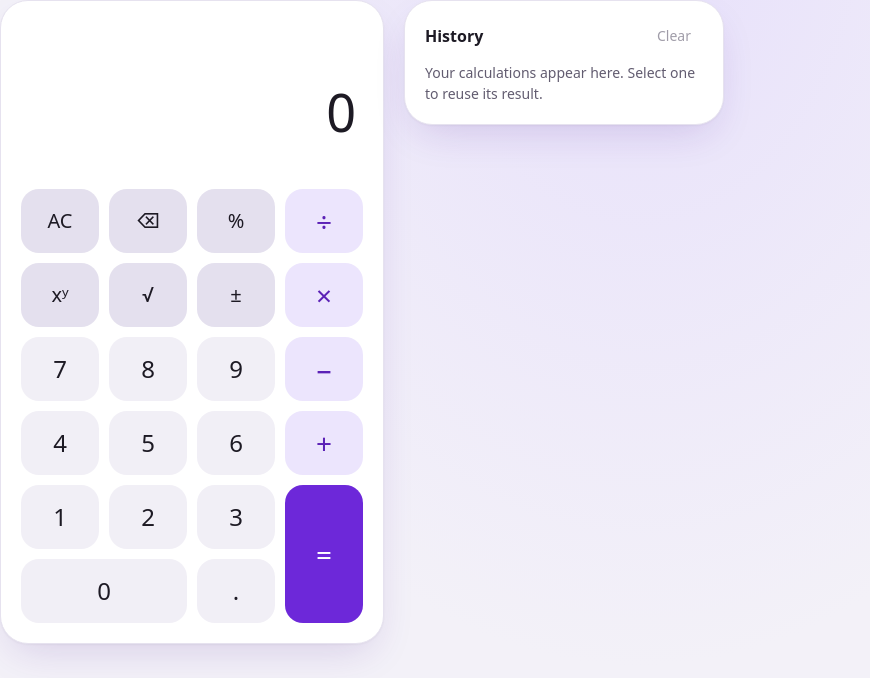
Calculator › treats Enter as = after clicking keys, without repeating the last one
The image size is (870, 678).
Click the button "2" at (148, 517), box [109,485,187,549]
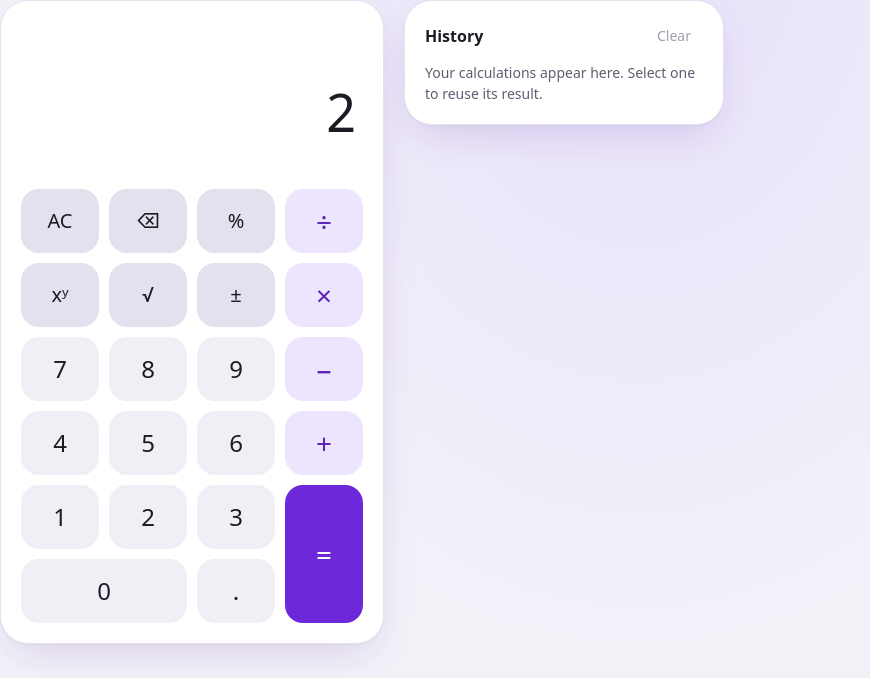
Click the button named "Add" at (324, 443), box [285,411,363,475]
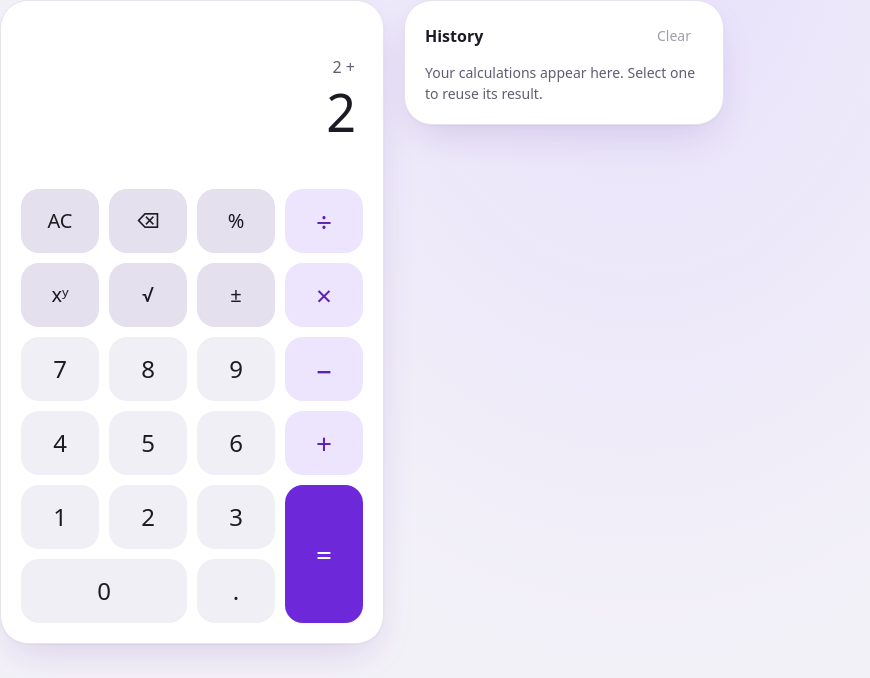
Click the button "3" at (236, 517), box [197,485,275,549]
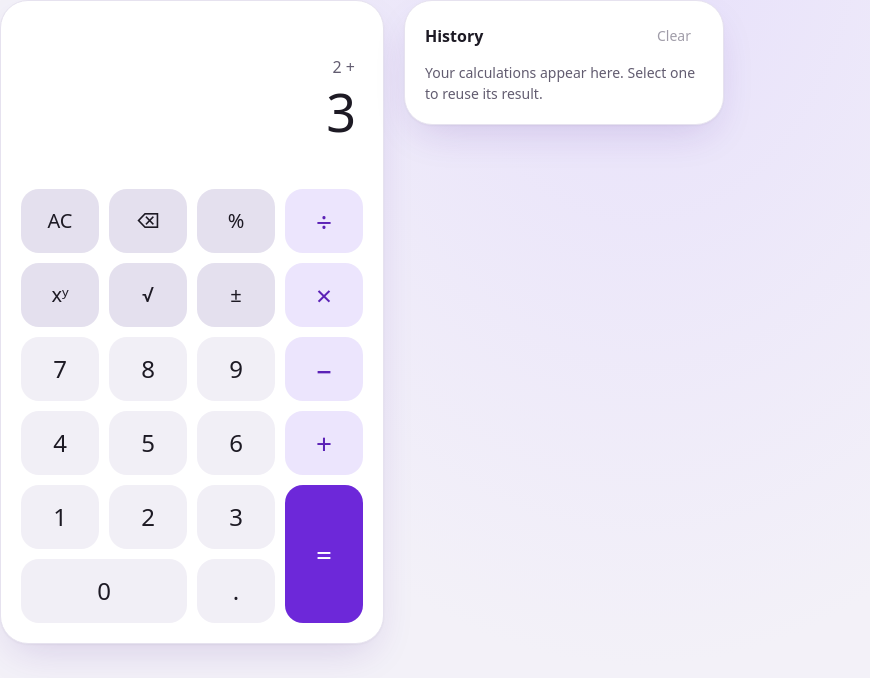
Press Enter
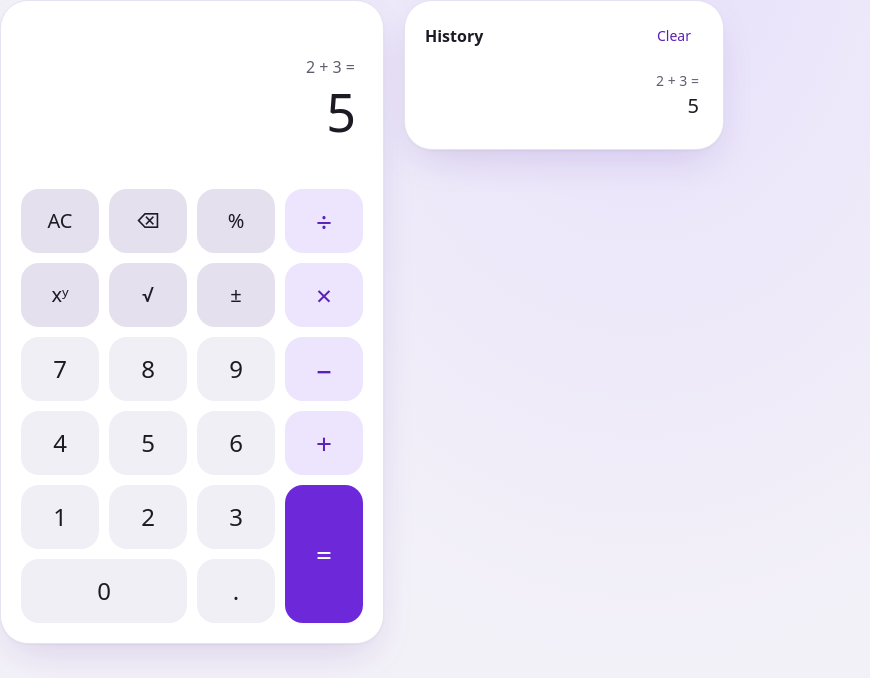
expect the 1st text "5" is shown: met, box [326,83,355,140]
